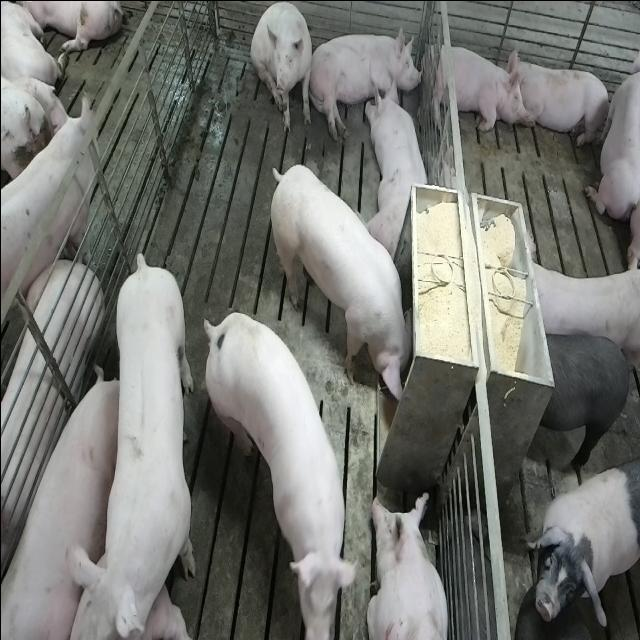Feeding: (264, 162, 410, 404)
Lateral_lying: (0, 368, 118, 640), (308, 21, 422, 142)
Sitting: (250, 2, 314, 134)
Standing: (204, 308, 358, 638), (70, 251, 198, 639), (0, 97, 93, 337), (524, 452, 638, 632), (529, 329, 634, 475), (521, 256, 637, 377)
Sternal_lying: (366, 491, 450, 640), (367, 75, 431, 258), (509, 50, 611, 150), (584, 34, 637, 224), (426, 36, 522, 134)
